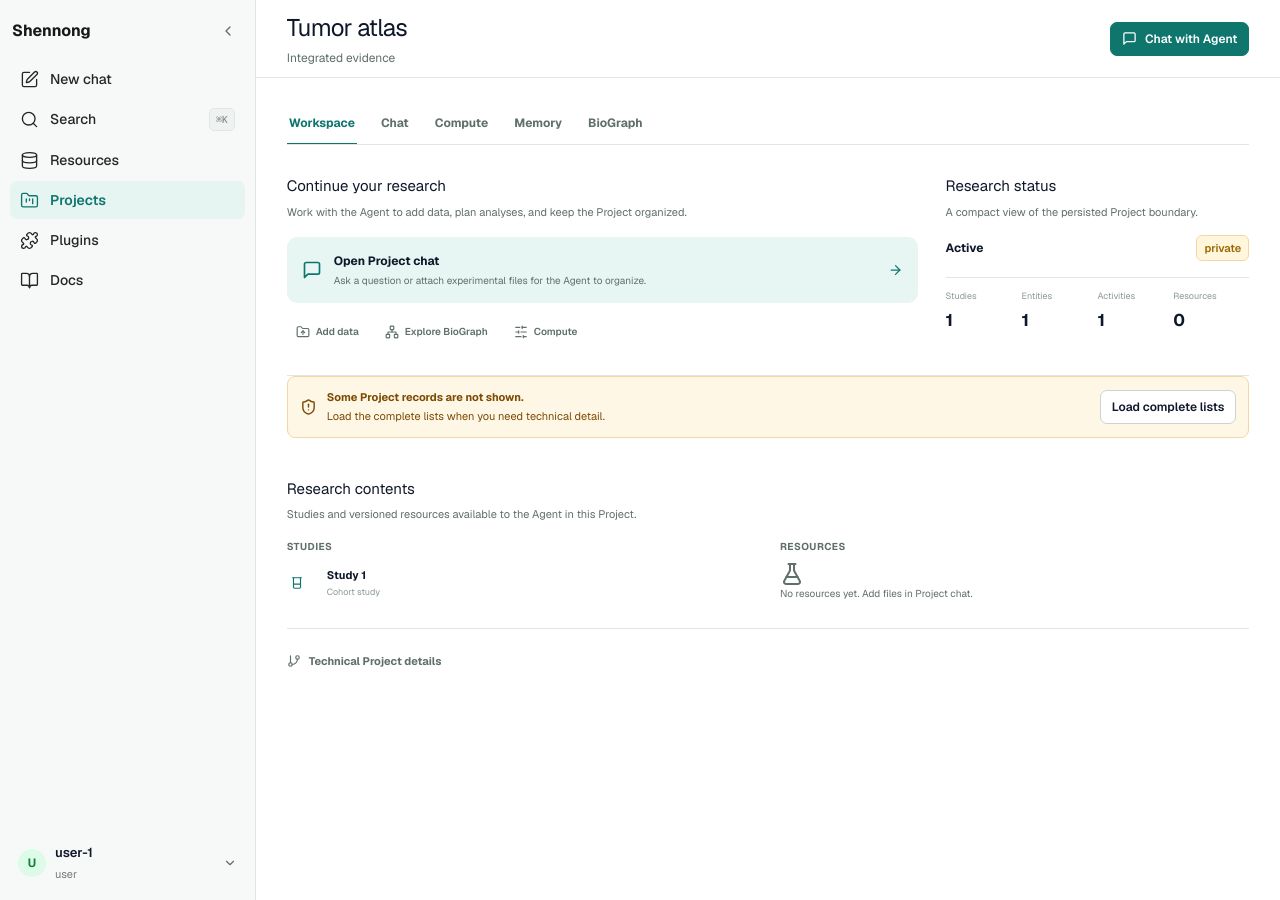
Test case: ProjectWorkspaceView › loads complete lists only after a truncated pack and explicit user action
The image size is (1280, 900).
Click the button "Load complete lists" at (1168, 406), box [1100,390,1236,424]
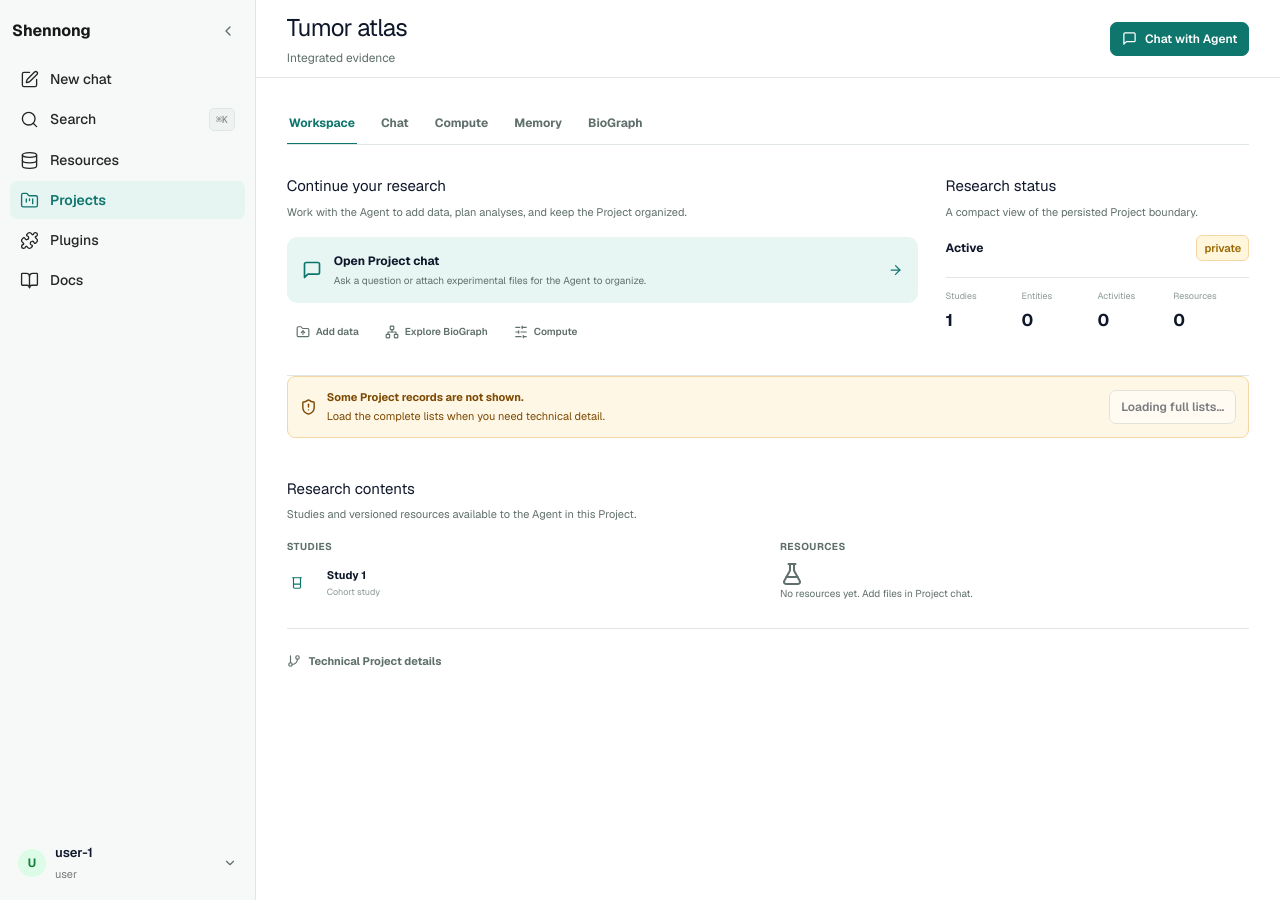
Expected: the button "Loading full lists…" is shown, [1109,390,1236,424]
